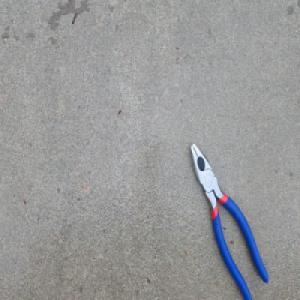Pliers: (187, 139, 268, 300)
